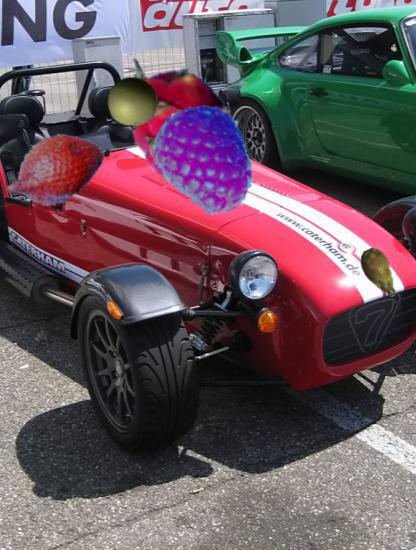Apple: (104, 74, 160, 130)
Cactus: (353, 247, 406, 300)
Pitahaya: (104, 47, 251, 194)
Raspberry: (146, 105, 260, 219)
Salak: (3, 119, 107, 223)
